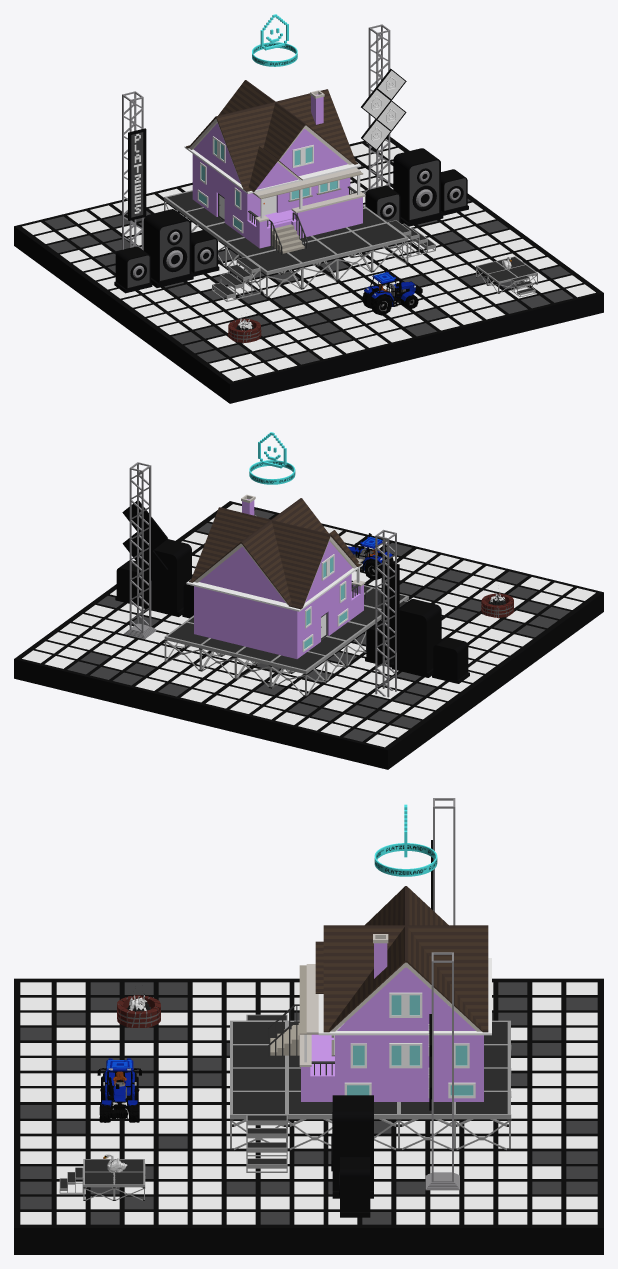
3 views of the same model, one above another, from view 1: azimuth 30°, elevation 25°; view 2: azimuth 150°, elevation 25°; view 3: azimuth 270°, elevation 25° (orthographic). The views are drawn at different scales.
Visible parts, largest first — view 1: Cube.008, Cube.391, VEHICLES_TRACTOR, TYPE_PREMIUM, OBJRANDOM_CAMPFIRE; view 2: Cube.008, Cube.391, TYPE_PREMIUM, VEHICLES_TRACTOR, OBJRANDOM_CAMPFIRE; view 3: Cube.008, Cube.391, VEHICLES_TRACTOR, OBJRANDOM_CAMPFIRE, TYPE_PREMIUM.
Part boxes in pixels (left/top/right/bottom): Cube.008: left=14, top=24, right=603, bottom=403; Cube.391: left=184, top=80, right=365, bottom=254; VEHICLES_TRACTOR: left=362, top=268, right=422, bottom=315; TYPE_PREMIUM: left=252, top=14, right=297, bottom=66; OBJRANDOM_CAMPFIRE: left=228, top=317, right=261, bottom=342; Cube.008: left=14, top=462, right=603, bottom=769; Cube.391: left=186, top=494, right=366, bottom=658; TYPE_PREMIUM: left=249, top=432, right=295, bottom=484; VEHICLES_TRACTOR: left=348, top=533, right=393, bottom=579; OBJRANDOM_CAMPFIRE: left=481, top=593, right=514, bottom=617; Cube.008: left=14, top=798, right=603, bottom=1254; Cube.391: left=268, top=886, right=491, bottom=1101; VEHICLES_TRACTOR: left=97, top=1058, right=141, bottom=1122; OBJRANDOM_CAMPFIRE: left=117, top=993, right=160, bottom=1027; TYPE_PREMIUM: left=374, top=804, right=437, bottom=876.
Size of the model in its own units: 4000 by 2519 by 4000.
Materials: 39 (2 with a texture image).
